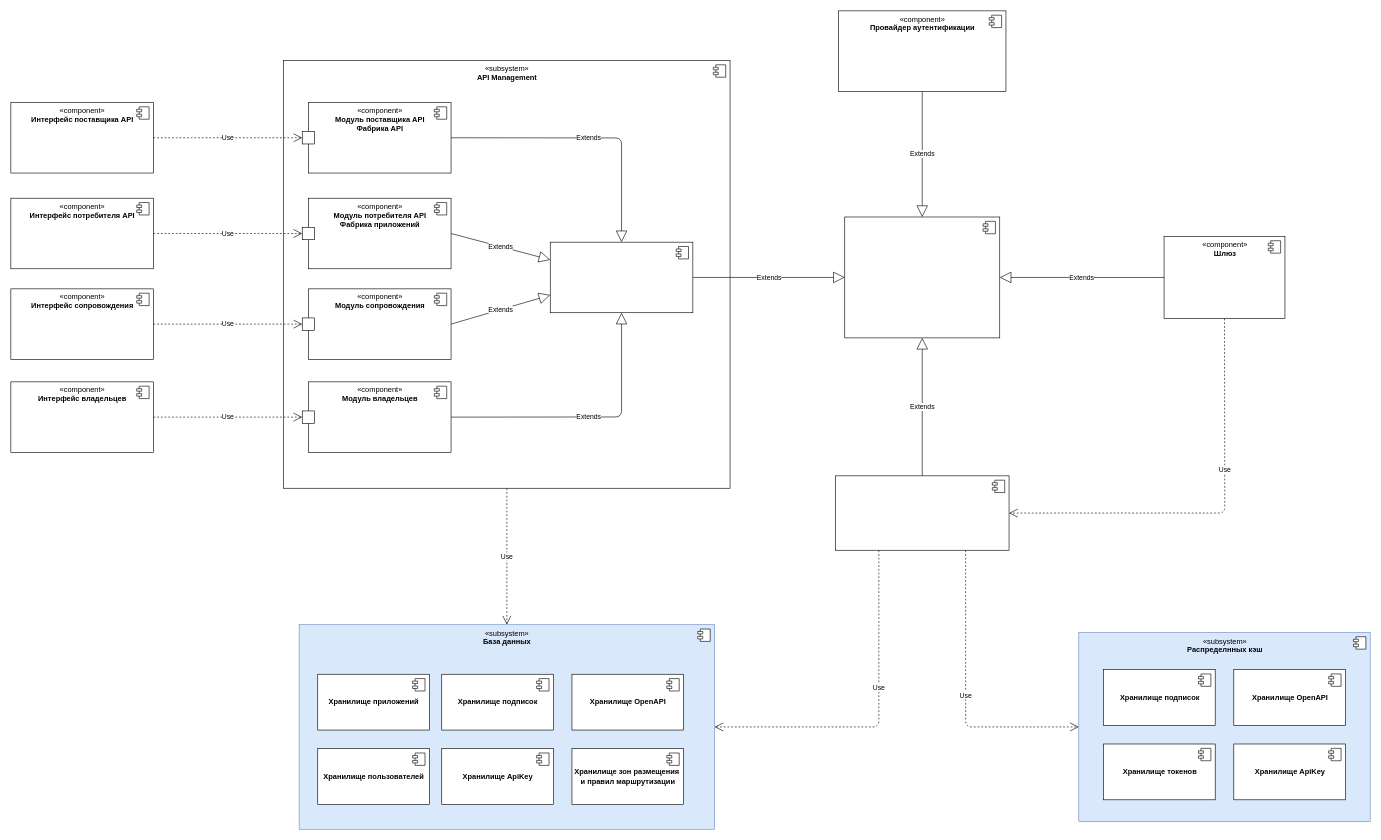
The diagram is 1381 pixels wide and 840 high, and some of its shapes have lost their labels. Each missing label, with the centre of its shape:
"«component» Распределитель данных" belongs at (922,512).
"«component» Ядро системы" belongs at (922,277).
"«component» Ядро управления API" belongs at (621,277).
